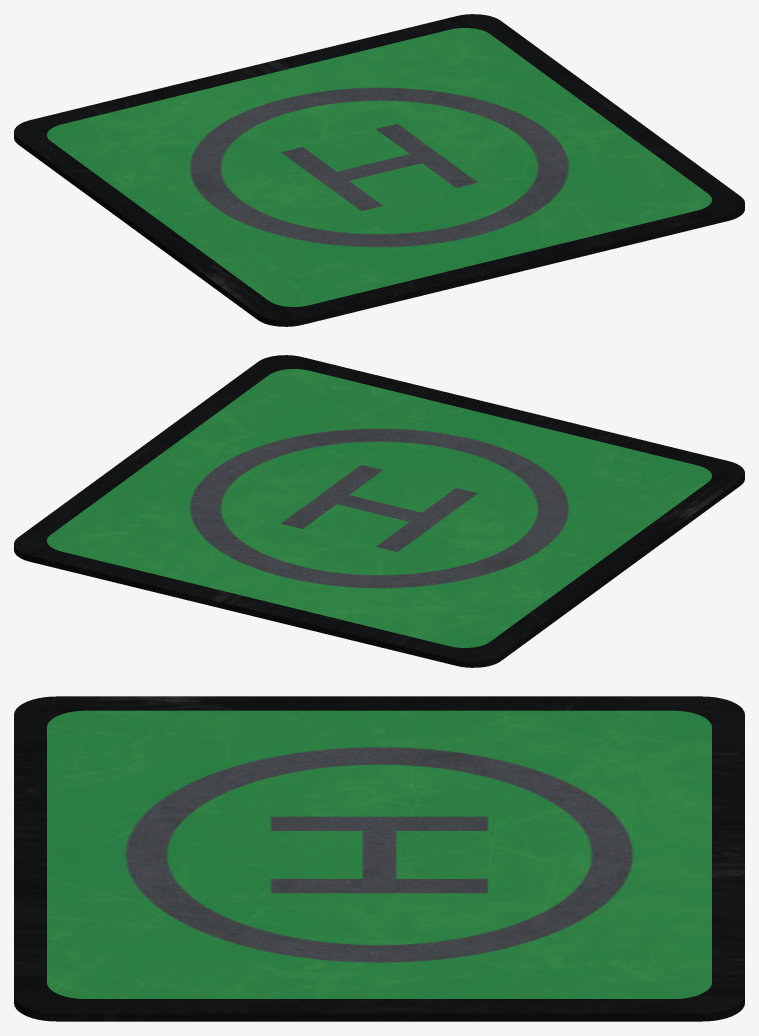
Rendered from e_color_DronePadForCar_green.fbx.
The picture shows the model from 3 angles, top to bottom: view 1: azimuth 30°, elevation 25°; view 2: azimuth 150°, elevation 25°; view 3: azimuth 270°, elevation 25°; orthographic projection. The views are drawn at different scales.
Parts seen in each view (by area): view 1: DronePadForCar_blue; view 2: DronePadForCar_blue; view 3: DronePadForCar_blue.
Boxes of the visible parts, x1,y1,x2,y2 form: DronePadForCar_blue: (14,14,744,326); DronePadForCar_blue: (14,355,744,667); DronePadForCar_blue: (14,696,744,1021).
Bounding box in the file's own units: 151 × 1.81 × 147.
